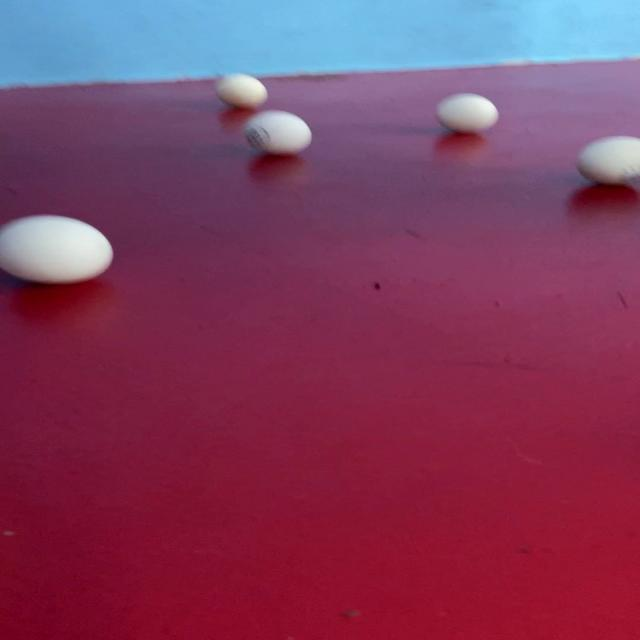ping-pong-ball: (0, 212, 121, 286), (573, 133, 640, 190), (431, 90, 504, 134)
